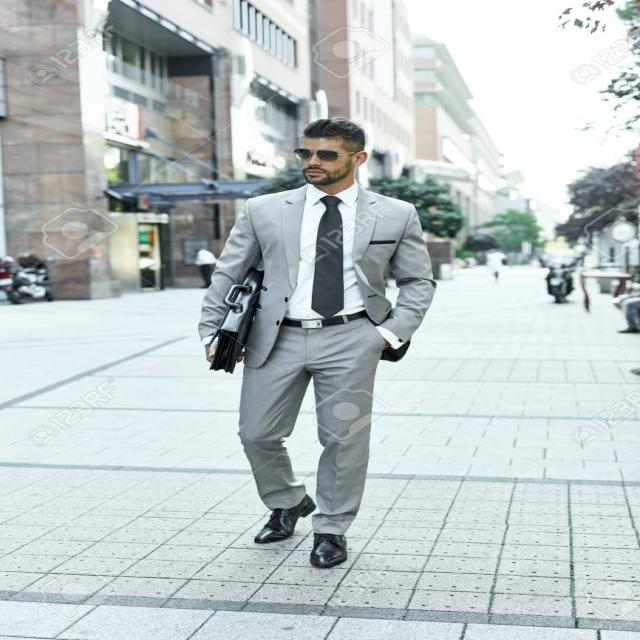Person: (201, 118, 435, 569)
